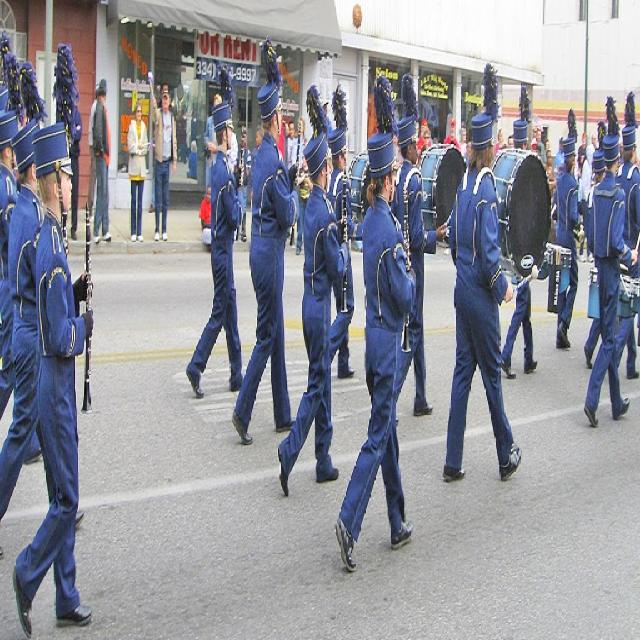clarinet: (81, 196, 98, 422), (400, 177, 415, 361), (338, 159, 354, 318), (288, 114, 301, 257), (236, 130, 247, 238), (61, 210, 71, 253)
